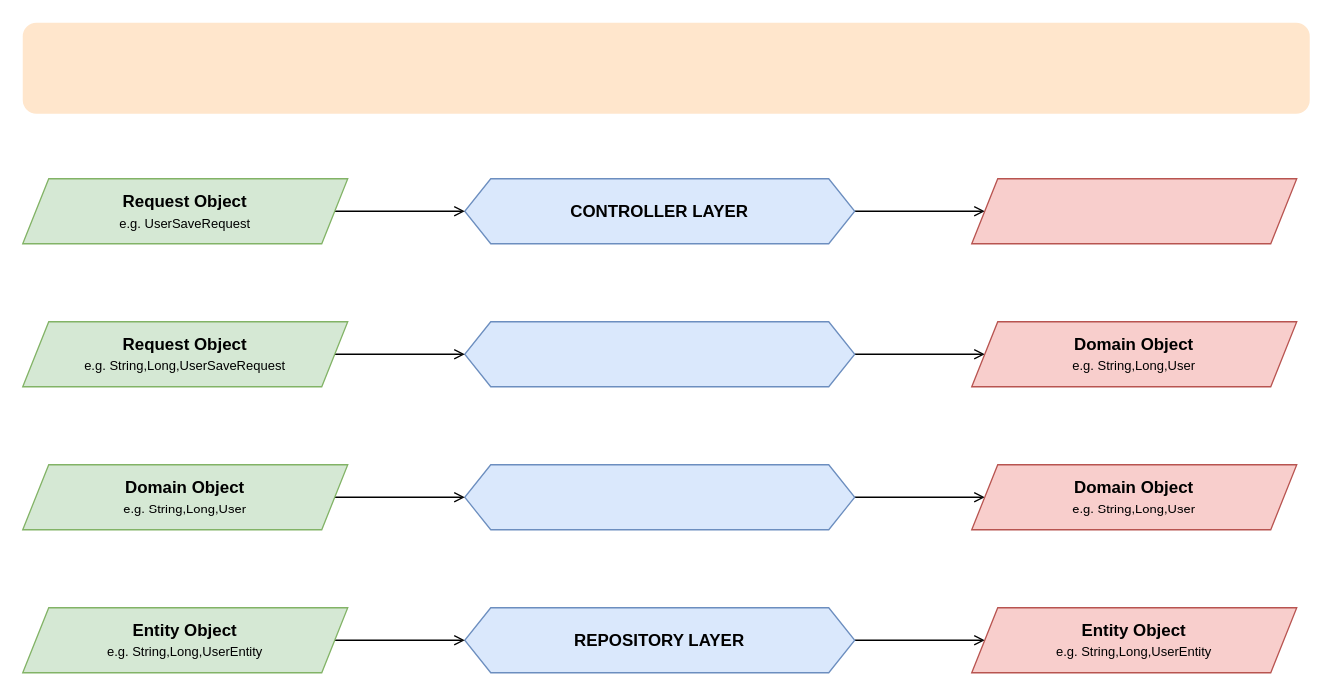
Image size: 1333x696. Some labels were removed from this diagram. Here are the shapes that lost their labels. From the top down, the centre of each, then its label:
At (x=665, y=67): "HexaLayered Architecture".
At (x=1133, y=210): "Response Object e.g. UserResponse".
At (x=659, y=353): "SERVICE LAYER".
At (x=659, y=496): "PORT/ADAPTER LAYER".
